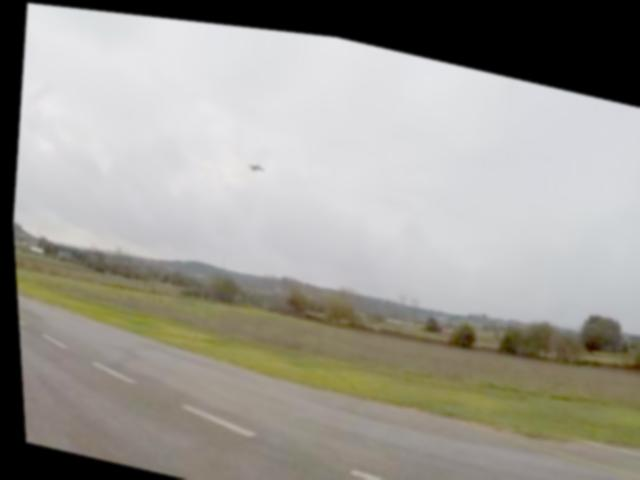uav: (238, 147, 265, 178)
